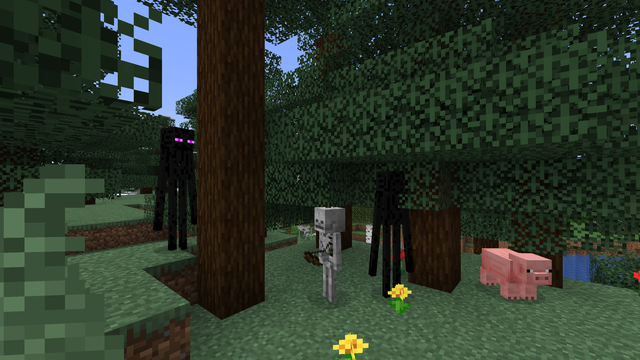cochons: (482, 245, 532, 302)
endermens: (373, 166, 409, 304), (158, 121, 195, 252)
squelettes: (310, 206, 348, 307)
